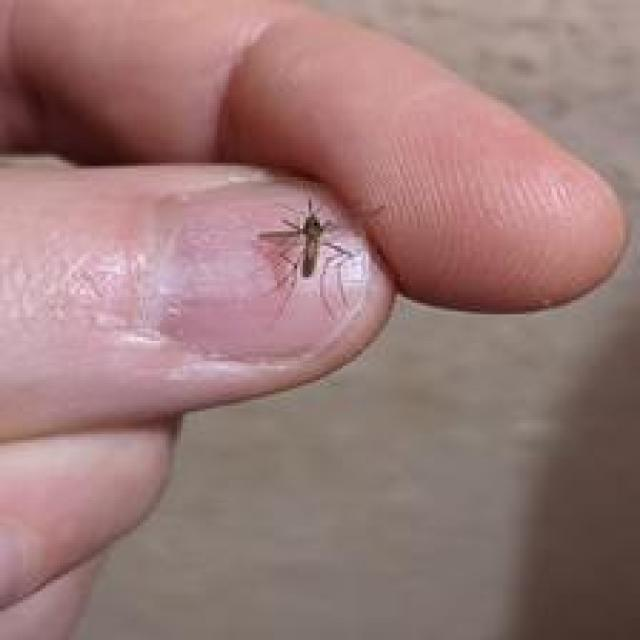Culex: (254, 196, 357, 321)
